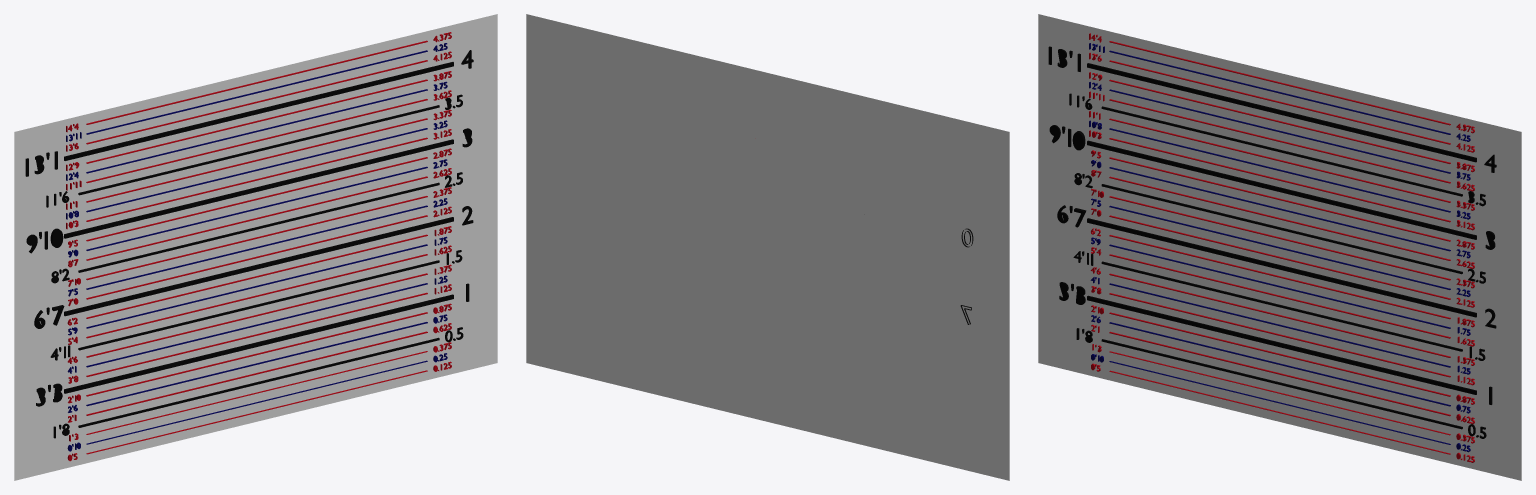
The model's file is lineup_wall.fbx.
3 renders of one model, left to right at view 1: azimuth 30°, elevation 25°; view 2: azimuth 150°, elevation 25°; view 3: azimuth 330°, elevation 25°, orthographic.
Parts seen in each view (by area): view 1: Lineup; view 2: Lineup; view 3: Lineup.
Boxes of the visible parts, x1,y1,x2,y2 form: Lineup: (14, 14, 497, 480); Lineup: (526, 14, 1009, 480); Lineup: (1038, 14, 1521, 480).
Size of the model in its own units: 6.52 by 4.5 by 0.0653.
